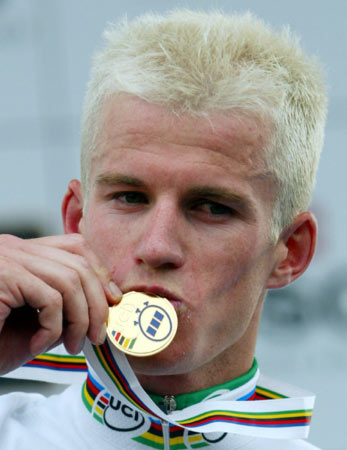face: (80, 92, 271, 362)
